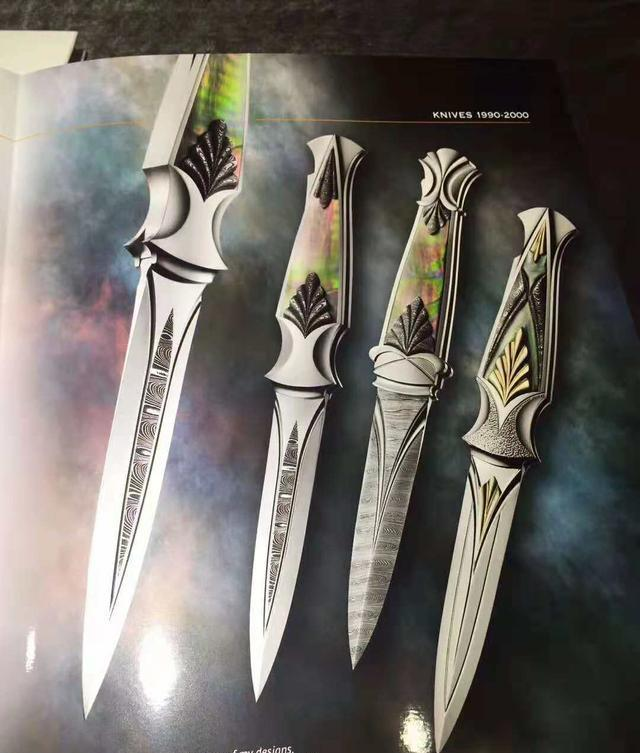knife: (65, 22, 582, 752)
